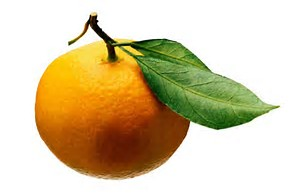orange: (33, 21, 267, 179)
